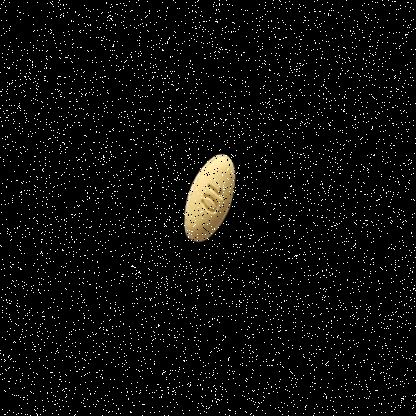tovast10: (162, 145, 253, 260)
